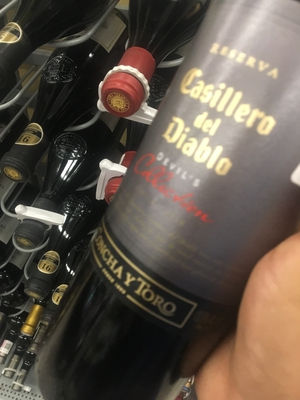casillero del diablo devils collection rojo: (90, 1, 300, 340)
